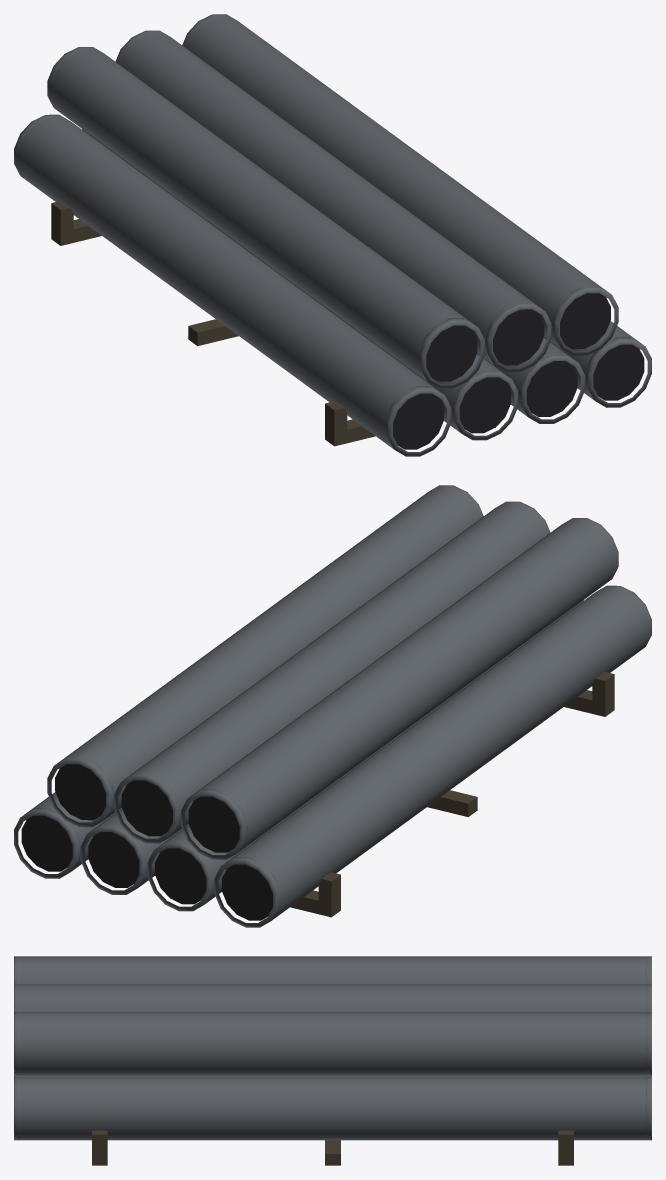
The model's file is PIPE_STACK.glb.
3 views of the same model, one above another, from view 1: azimuth 30°, elevation 25°; view 2: azimuth 150°, elevation 25°; view 3: azimuth 270°, elevation 25° (orthographic). The views are drawn at different scales.
Parts seen in each view (by area): view 1: paint_0, tread_1, timber_2; view 2: paint_0, tread_1, timber_2; view 3: paint_0, timber_2.
Boxes of the visible parts, x1,y1,x2,y2 form: paint_0: [14, 14, 651, 456]; tread_1: [393, 293, 644, 449]; timber_2: [51, 200, 375, 446]; paint_0: [14, 485, 651, 927]; tread_1: [21, 764, 272, 920]; timber_2: [290, 671, 614, 917]; paint_0: [14, 956, 651, 1140]; timber_2: [92, 1130, 573, 1165].
Size of the model in its own units: 2.6 by 1.25 by 6.02.
